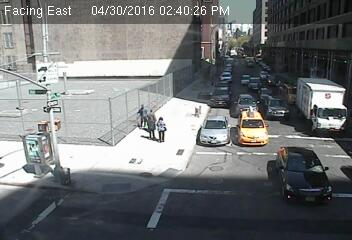neg: (308, 52, 336, 89), (158, 164, 185, 200), (191, 132, 215, 164), (88, 131, 111, 162), (309, 108, 326, 132), (265, 134, 282, 158), (170, 81, 187, 104), (279, 75, 293, 93), (265, 47, 277, 63)
